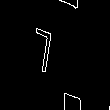L_S: (42, 27, 68, 83)
